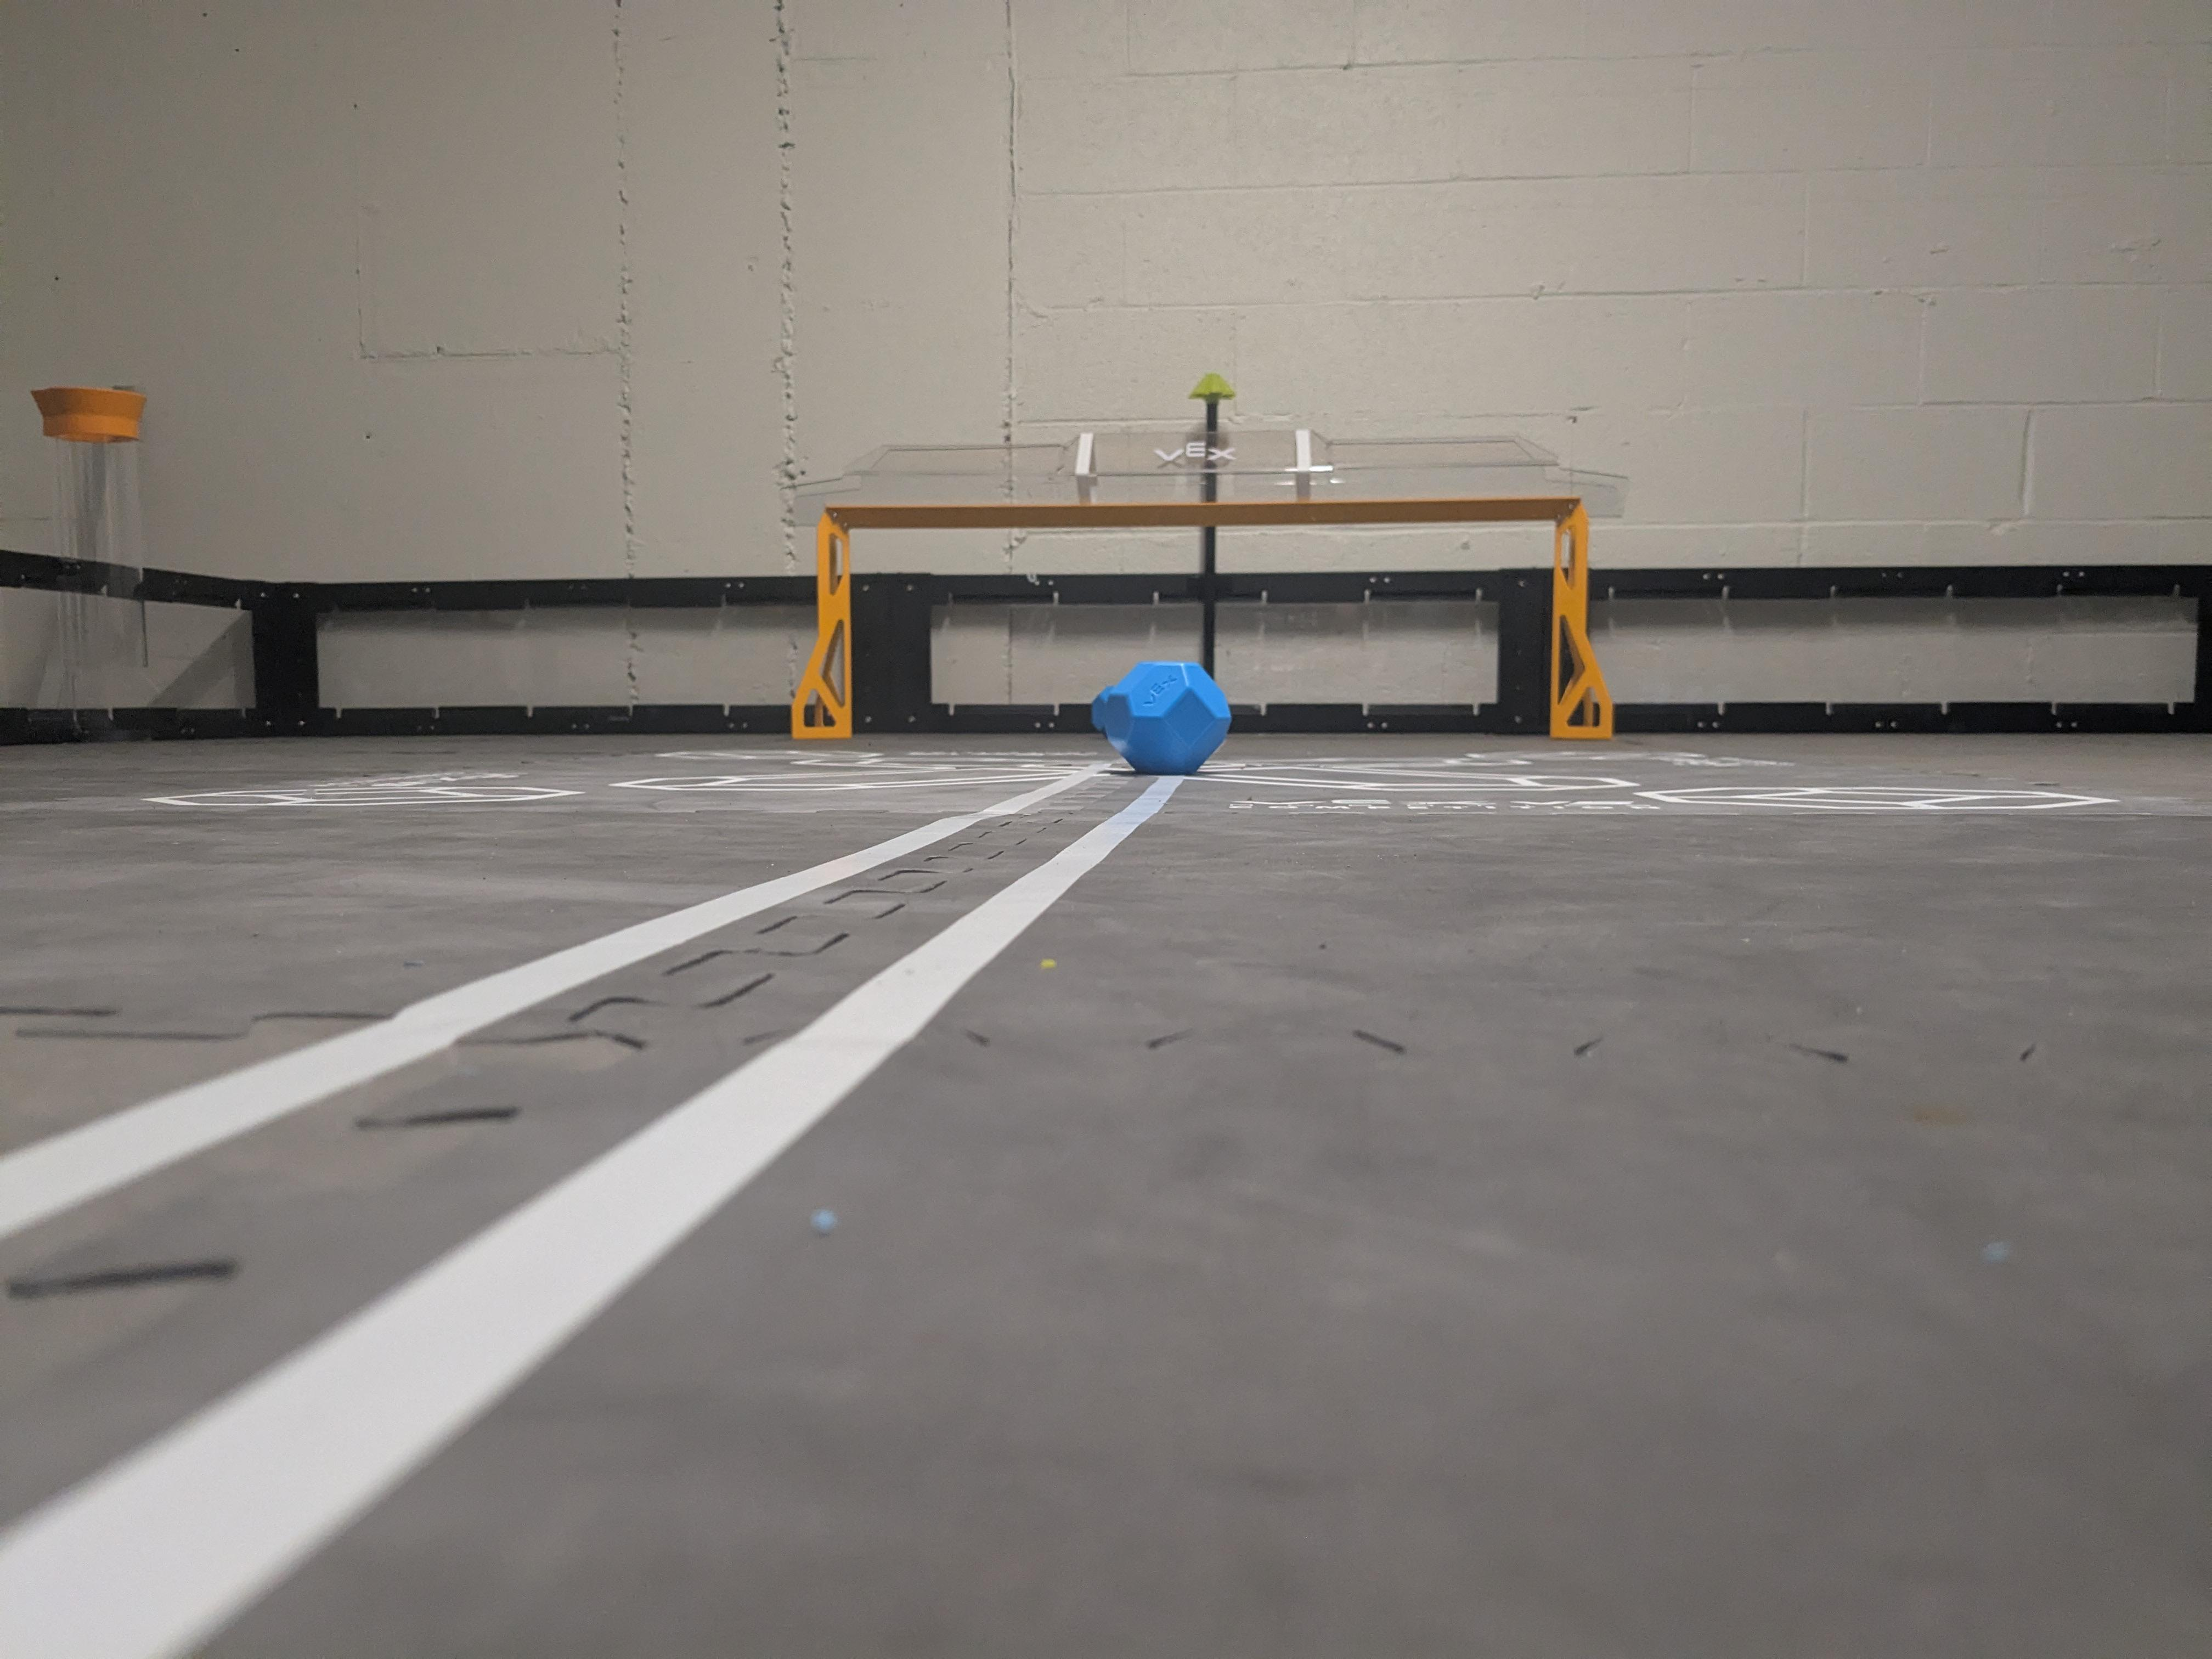Vex-Pieces-BLUE: (1096, 660, 1226, 772)
